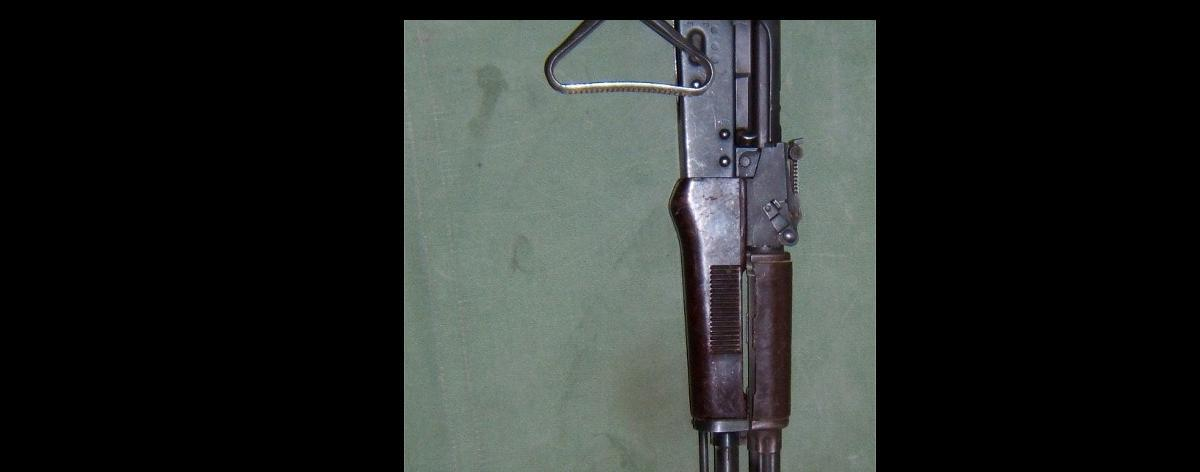larga: (543, 19, 807, 472)
